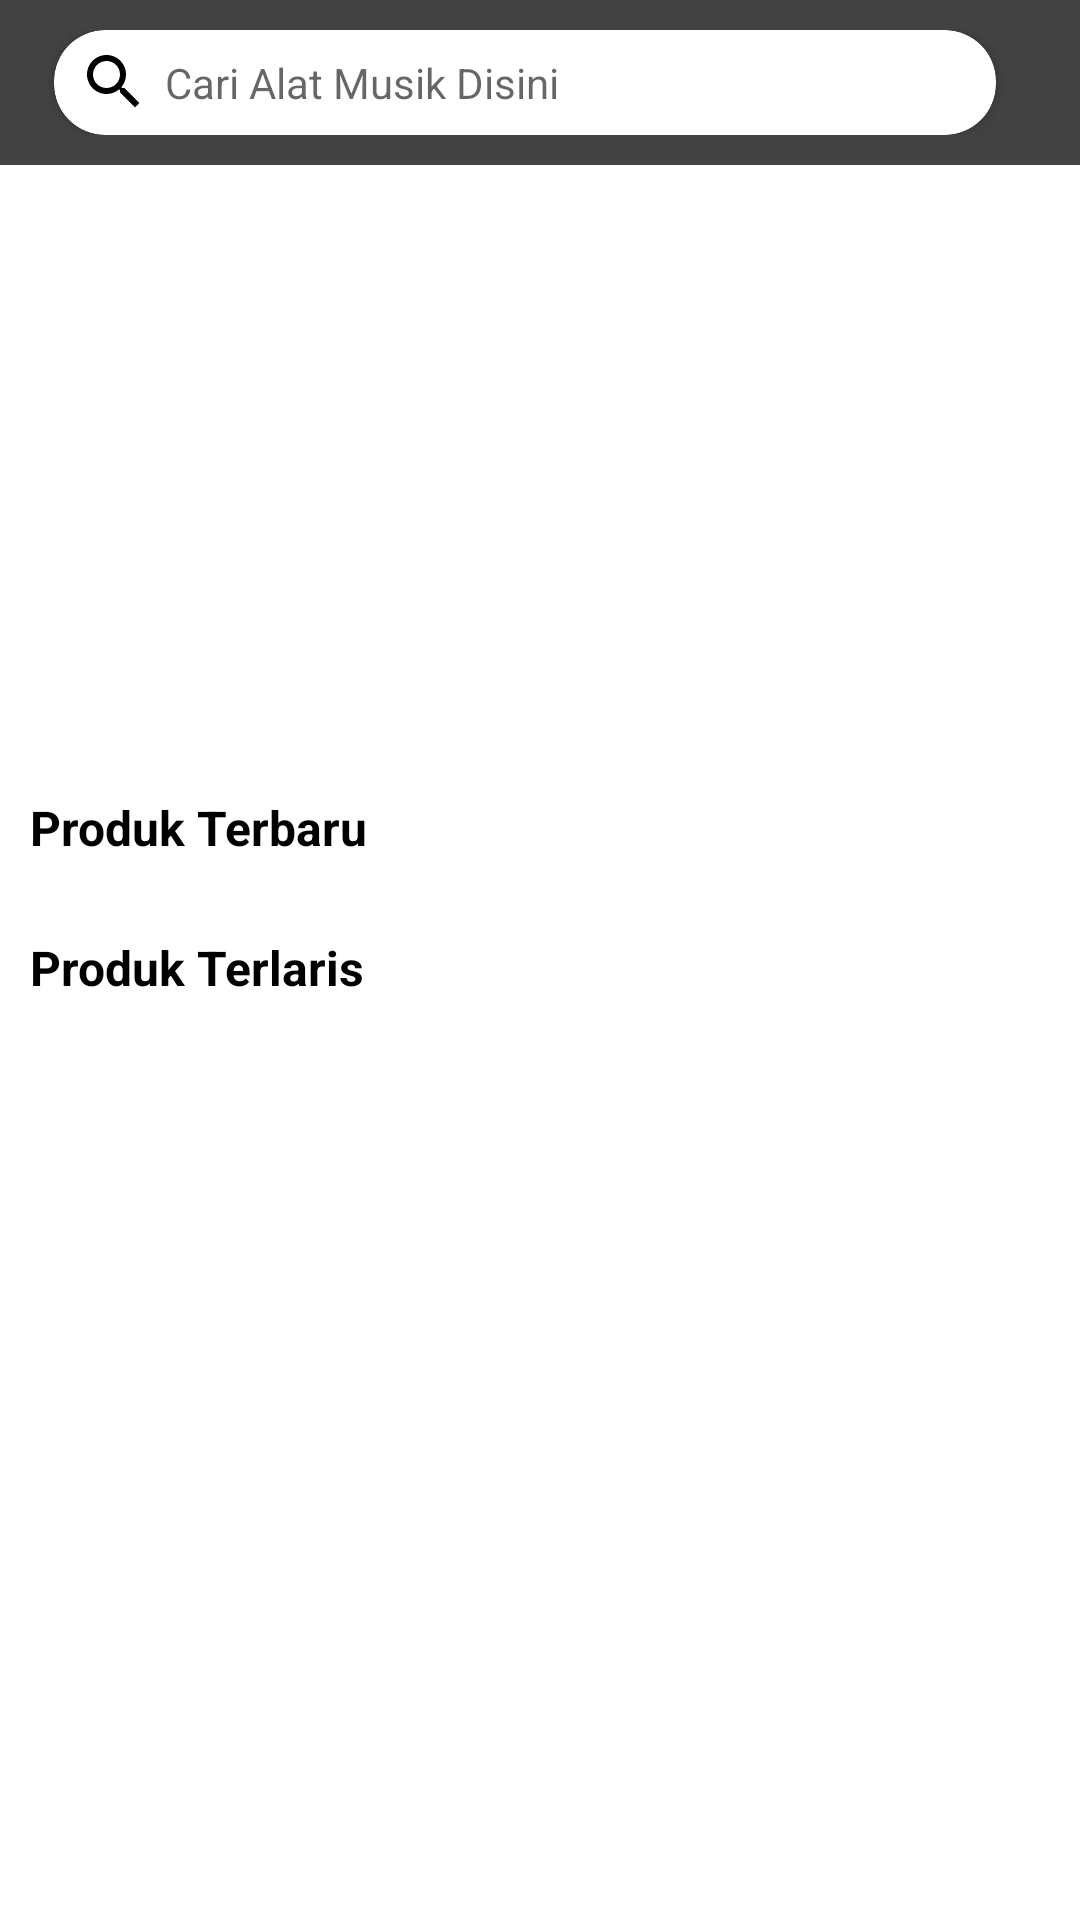

Named icons in this screenshot (1080 x 1920) and their centers, [x,y]:
search: [113,81]
